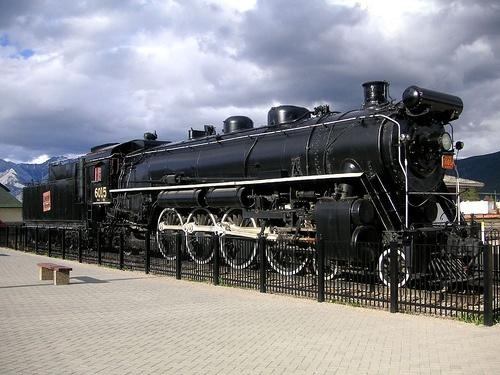train: (22, 82, 483, 297)
